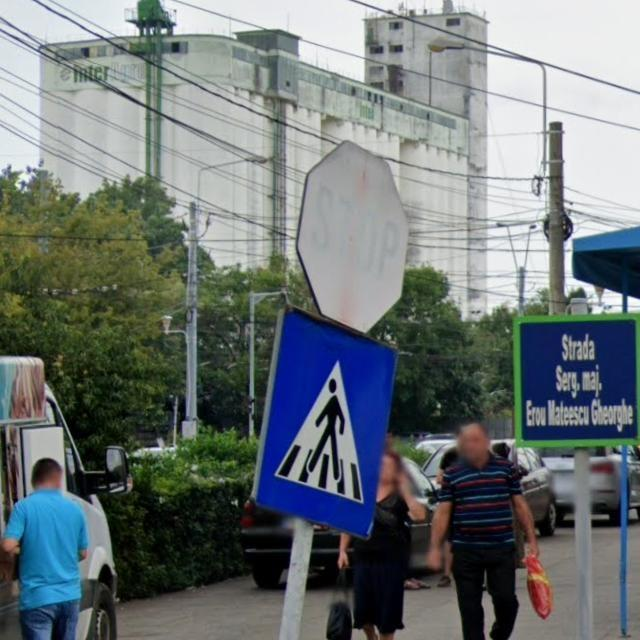info_crosswalk: (253, 307, 401, 541)
prio_stop: (296, 142, 410, 334)
